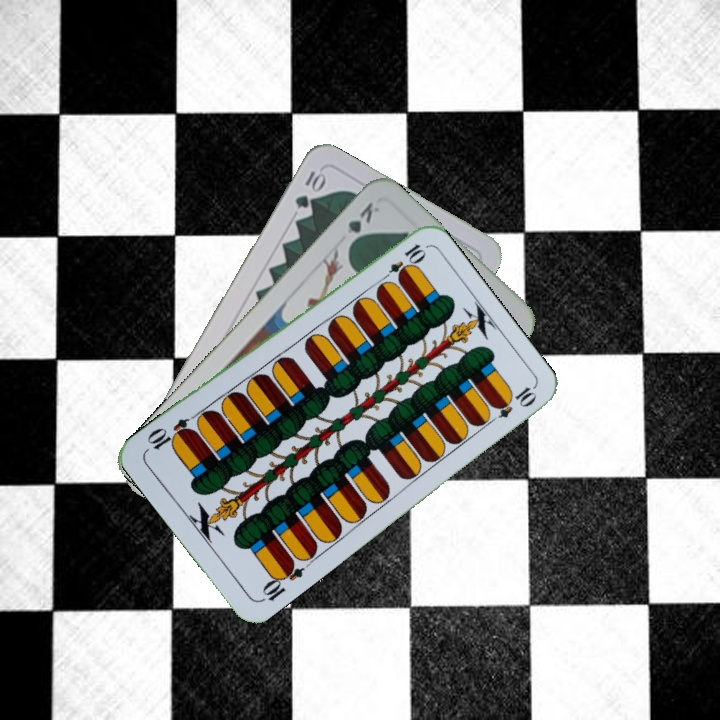E10: (256, 556, 307, 605), (376, 239, 428, 286)
G10: (290, 166, 328, 211)
GK: (342, 197, 382, 250)
